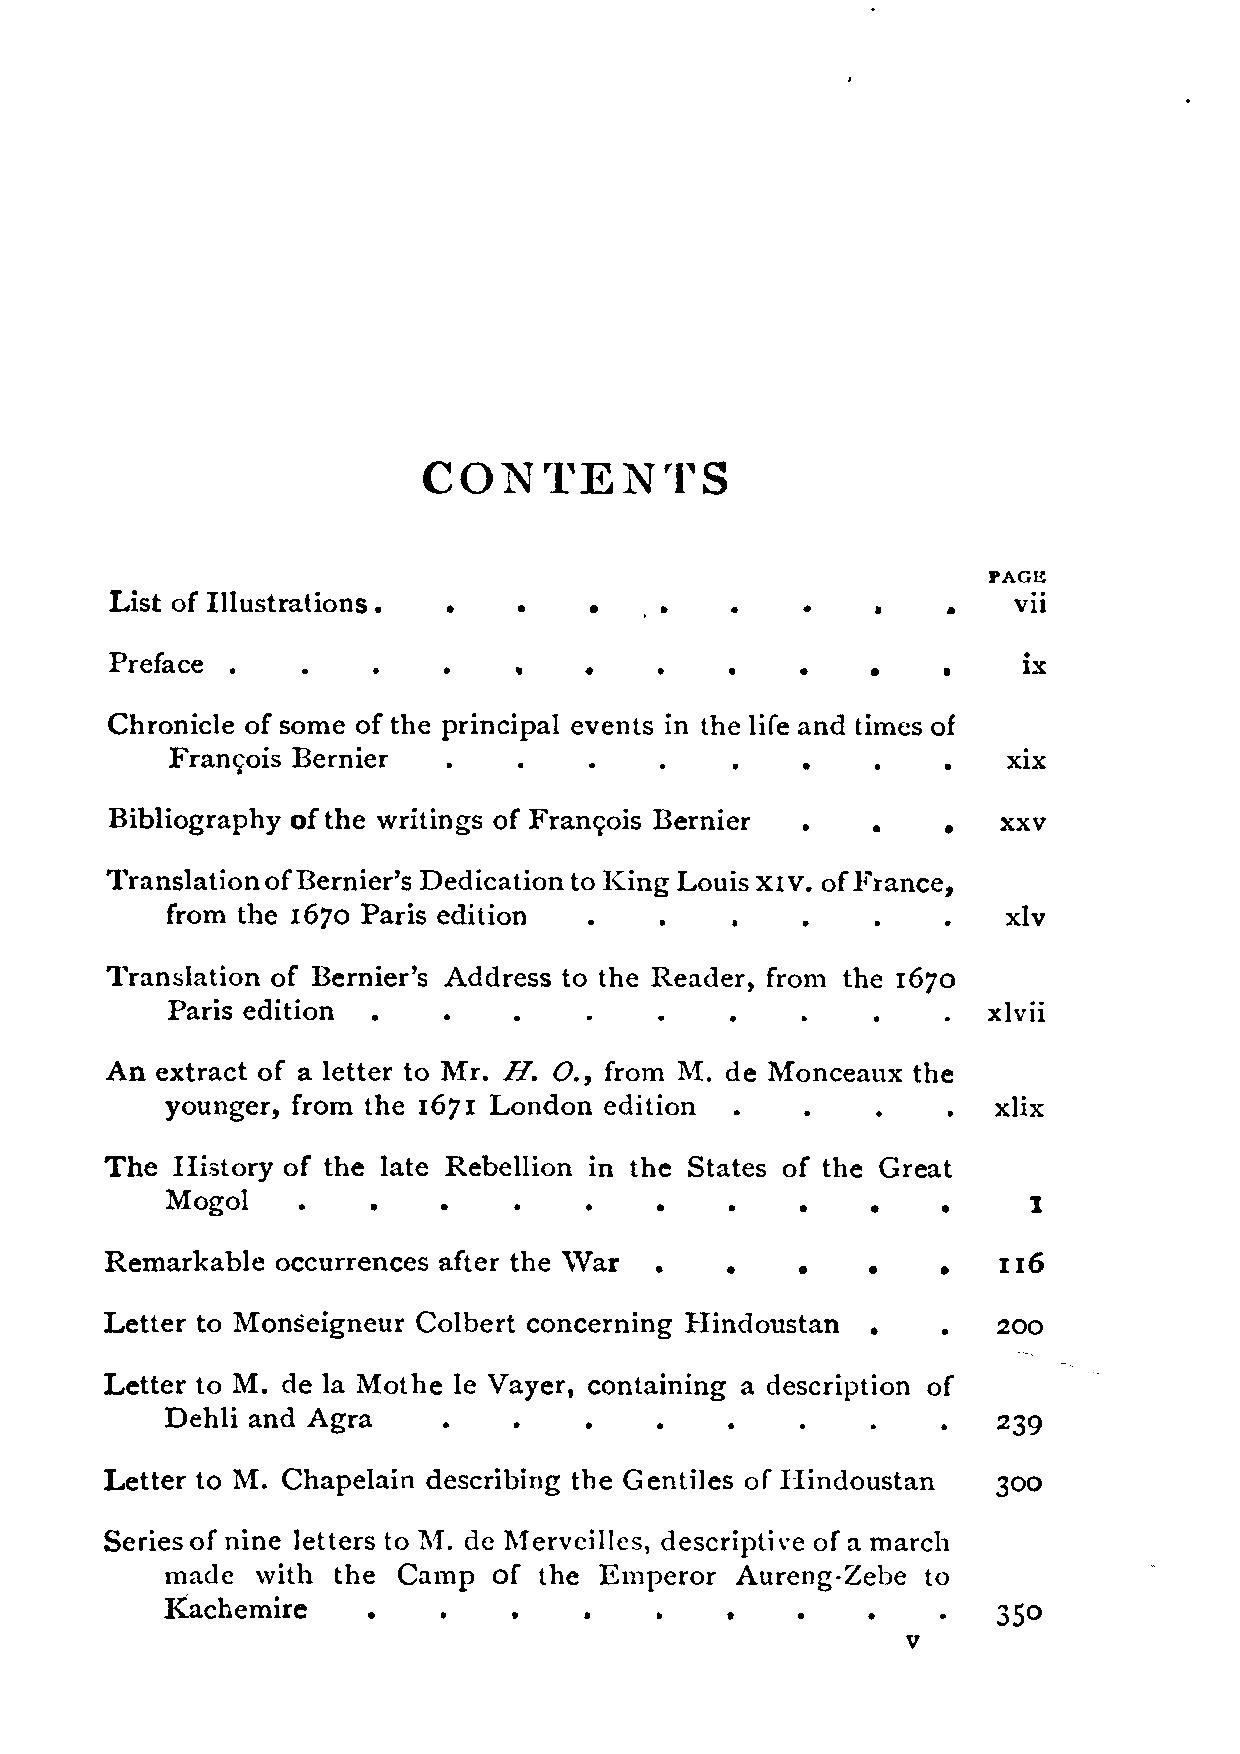TOC_chapter: (102, 1525, 954, 1621), (103, 863, 957, 934), (103, 958, 955, 1027), (107, 707, 962, 774), (102, 1368, 955, 1435), (103, 1151, 955, 1219), (105, 1057, 955, 1118), (103, 1461, 939, 1498), (99, 1307, 840, 1339), (107, 803, 754, 837), (99, 1247, 627, 1278), (106, 582, 374, 621), (107, 650, 211, 675)
TOC_pagenumber: (984, 997, 1047, 1027), (998, 1244, 1048, 1279), (994, 1406, 1044, 1439), (992, 807, 1051, 832), (992, 1312, 1049, 1338), (993, 1598, 1043, 1627), (1002, 743, 1049, 772), (993, 1474, 1041, 1500), (1002, 899, 1045, 929), (994, 1092, 1044, 1118), (1012, 586, 1049, 612), (1019, 647, 1049, 678), (1023, 1193, 1048, 1215)
chapter: (419, 458, 731, 497)
